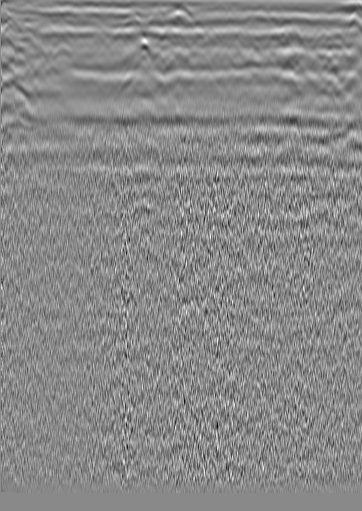가스: (124, 195, 154, 223)
상수: (282, 27, 302, 47)
오수: (22, 27, 42, 47)
우수: (167, 3, 187, 23)
